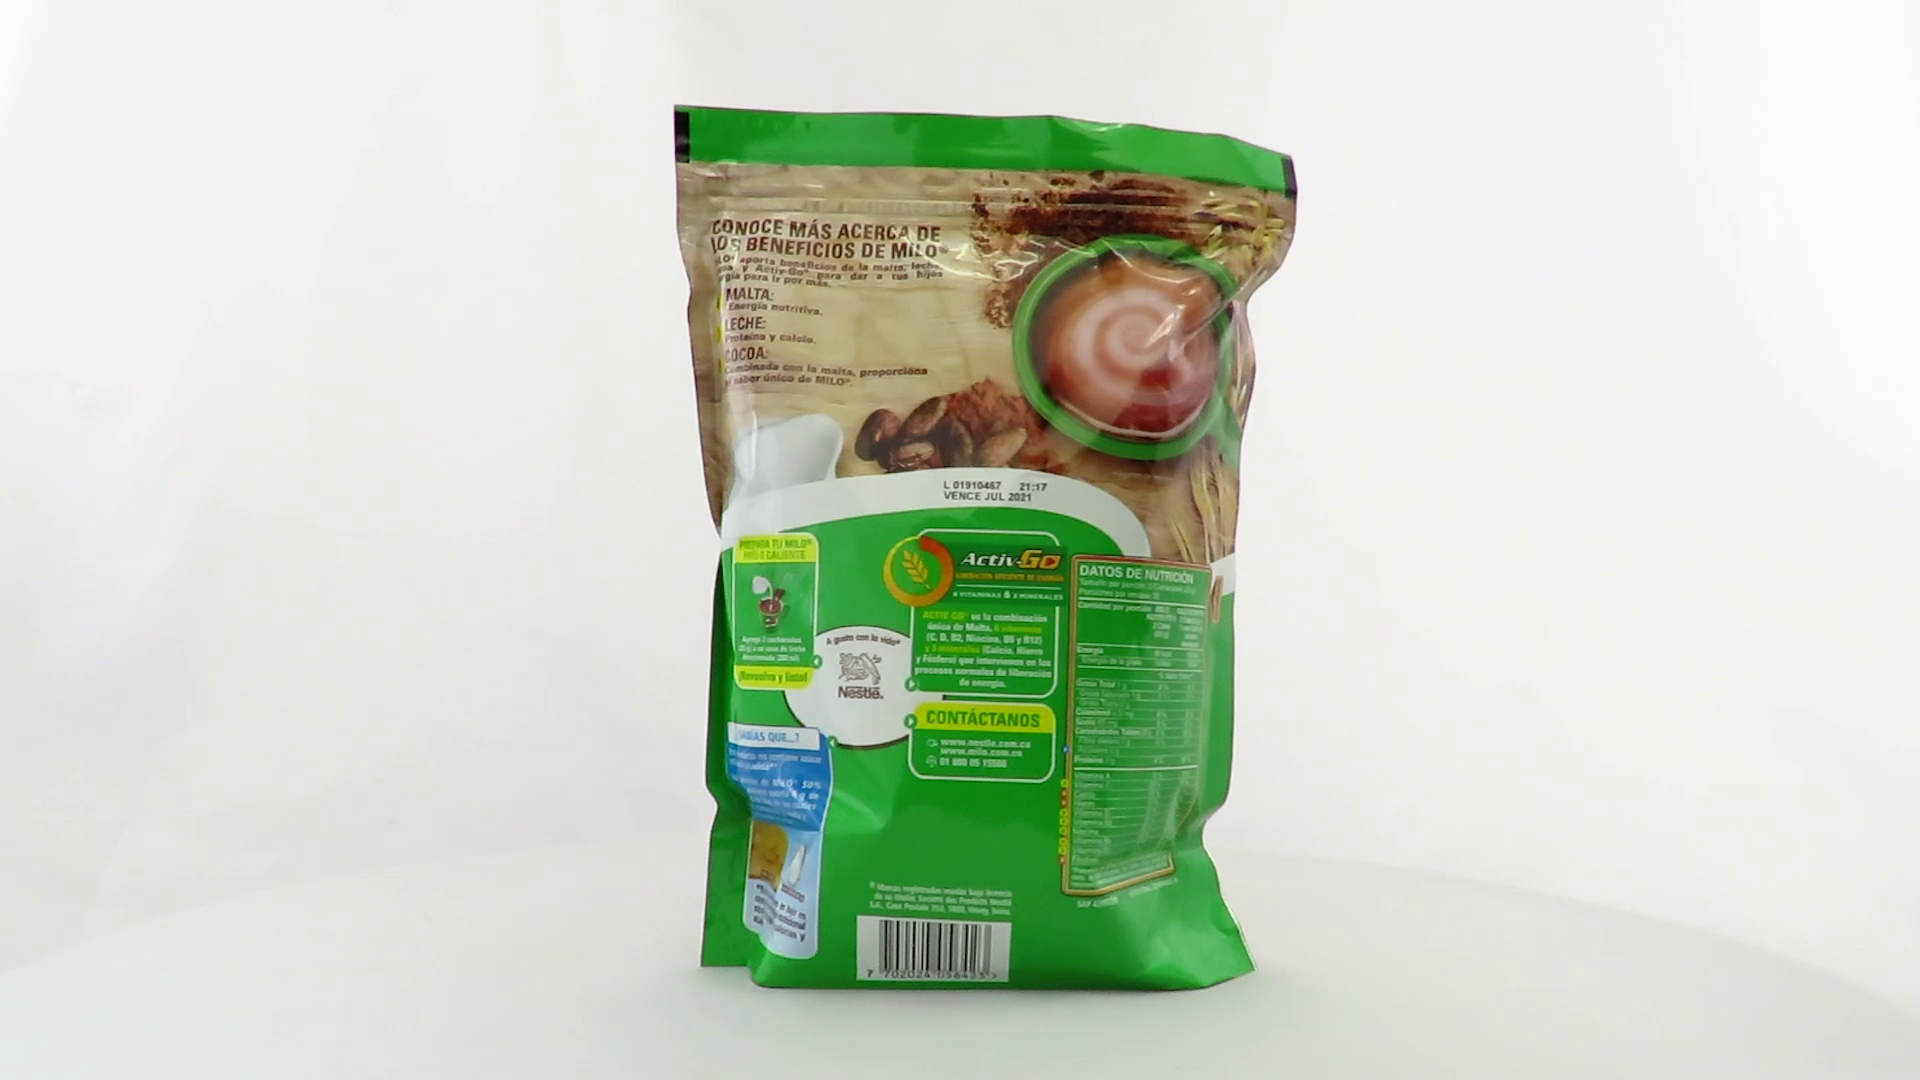COL0170205DYP50000: (669, 99, 1304, 1000)
